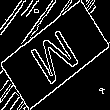M_SE: (25, 21, 85, 89)
